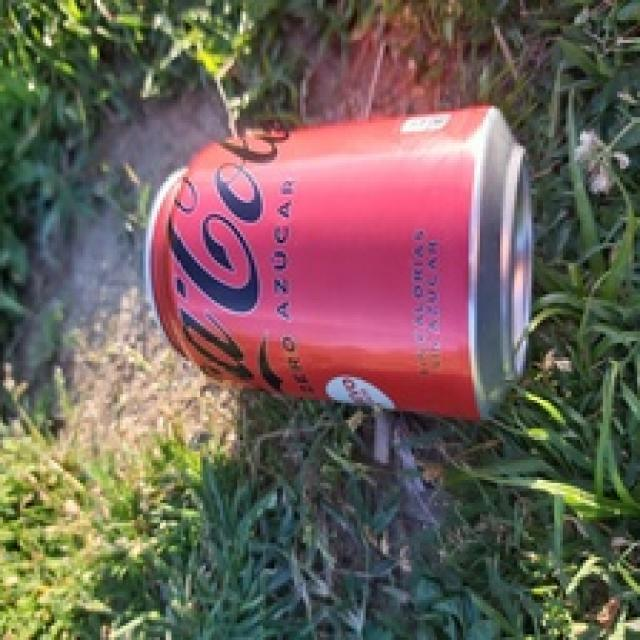recyclable: (143, 107, 536, 421)
